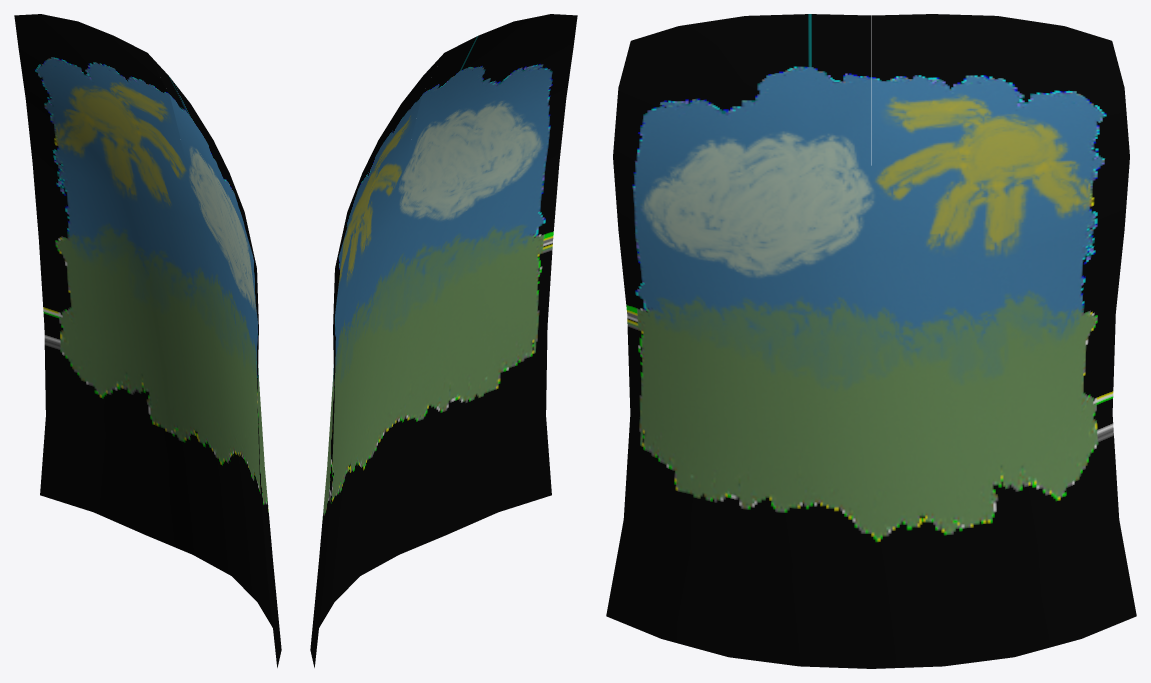
File: Painting.fbx
3 renders of one model, left to right at view 1: azimuth 30°, elevation 25°; view 2: azimuth 150°, elevation 25°; view 3: azimuth 270°, elevation 25°, orthographic. The views are drawn at different scales.
Visible parts, largest first — view 1: Painting; view 2: Painting; view 3: Painting.
Boxes of the visible parts, bbox=[...] form: Painting: bbox=[14, 14, 281, 667]; Painting: bbox=[310, 14, 577, 667]; Painting: bbox=[606, 14, 1136, 668].
Bounding box in the file's own units: 15 × 71.33 × 56.36.
